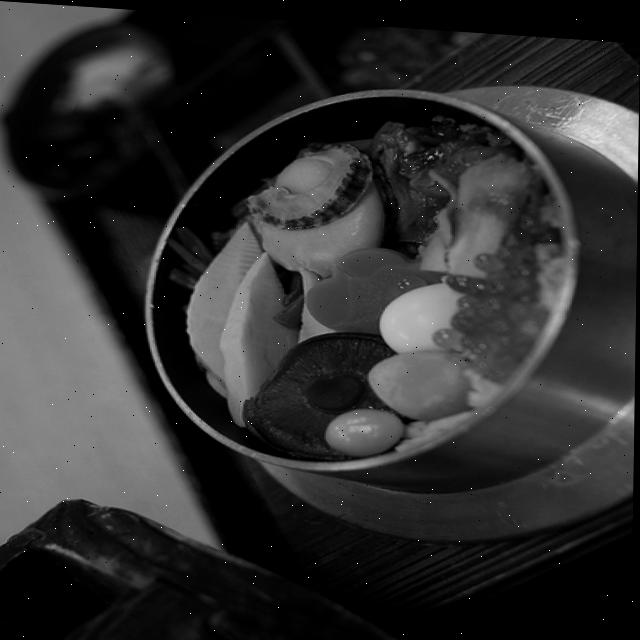蔬菜料理: (0, 52, 639, 578)
